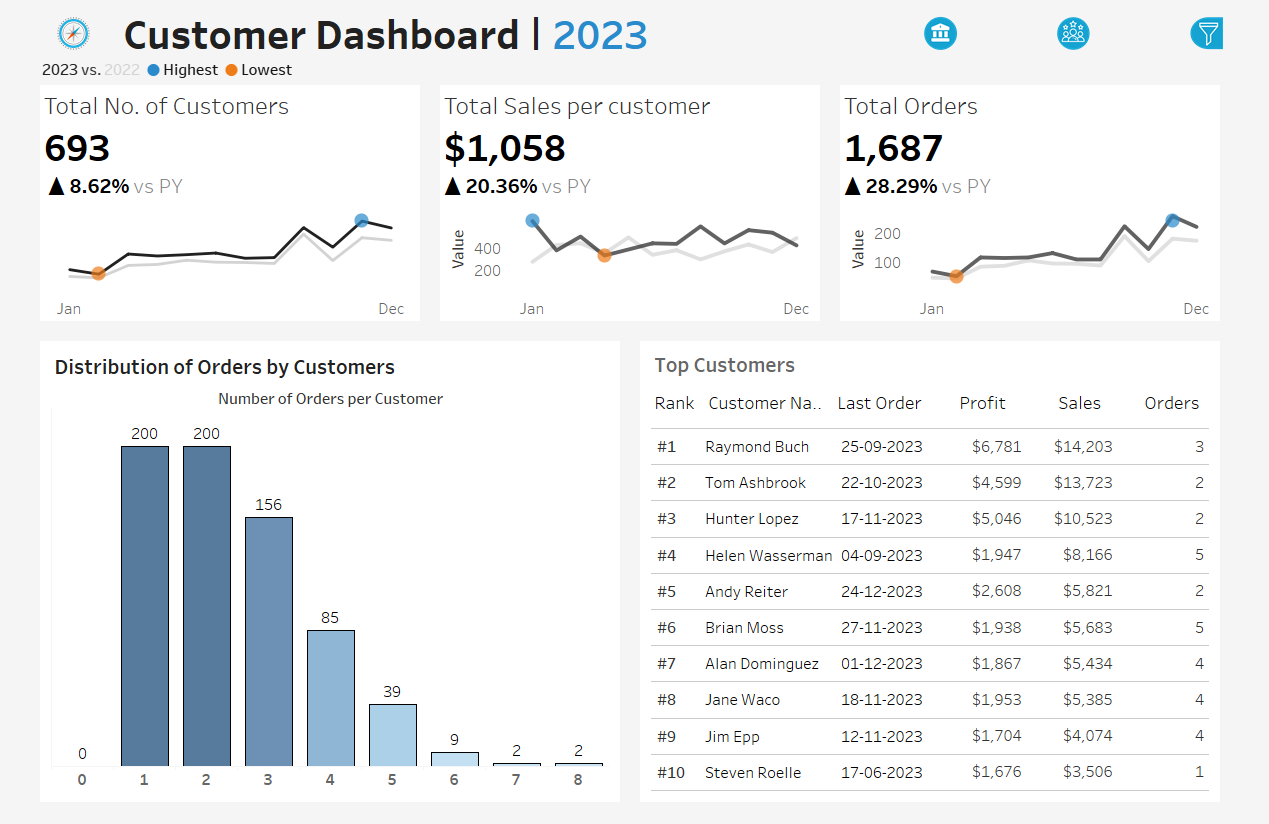

The dashboard page shown, as its layout file describes it:
{"tool":"tableau","page":{"name":"Customer Dashboard","canvas":[1200,800],"ordinal":0},"visuals":[{"type":"image","param":"C:/Users/Akash Paliwal/Downloads/Sales-Dashboard-Materials/Sales Dashboard Mater","box":[0,0,86,42]},{"type":"text","box":[86,0,660,42]},{"type":"dashboard-object","box":[843,0,134,42]},{"type":"dashboard-object","box":[977,0,133,42]},{"type":"worksheet","title":"Legend KPI","mark":"Automatic","box":[0,42,1200,31]},{"type":"parameter","param":"[Parameters].[Parameter 1]","box":[930,48,257,56]},{"type":"worksheet","title":"KPI Customers","mark":"Line","rows":["Calculation_286260097234006021"],"cols":["Order Date"],"box":[0,73,400,246]},{"type":"worksheet","title":"KPI Sales per customer","mark":"Line","rows":["Min/Max Customers (copy)_1113515053823201294"],"cols":["Order Date"],"box":[400,73,400,246]},{"type":"worksheet","title":"KPI Orders","mark":"Line","rows":["Min/Max Customers (copy)_1113515053820231693"],"cols":["Order Date"],"box":[800,73,400,246]},{"type":"text","box":[930,104,257,36]},{"type":"filter","title":"KPI Customers","param":"[federated.1g6lbct0ap08e71cuca1106mvlet].[none:Category:nk]","box":[930,140,257,61]},{"type":"filter","title":"KPI Customers","param":"[federated.1g6lbct0ap08e71cuca1106mvlet].[none:Sub-Category:nk]","box":[930,201,257,61]},{"type":"text","box":[930,262,257,36]},{"type":"filter","title":"KPI Customers","param":"[federated.1g6lbct0ap08e71cuca1106mvlet].[none:Region:nk]","box":[930,298,257,61]},{"type":"text","box":[17,336,566,36]},{"type":"text","box":[617,336,566,32]},{"type":"filter","title":"KPI Customers","param":"[federated.1g6lbct0ap08e71cuca1106mvlet].[none:State:nk]","box":[930,359,257,61]},{"type":"text","box":[617,368,54,44]},{"type":"text","box":[671,368,129,44]},{"type":"text","box":[800,368,122,44]},{"type":"text","box":[922,368,99,44]},{"type":"text","box":[1021,368,86,44]},{"type":"text","box":[1107,368,76,44]},{"type":"worksheet","title":"Order Distribution","mark":"Automatic","rows":["Calculation_286260097219256321"],"cols":["Calculation_224617077638569984"],"box":[17,372,566,411]},{"type":"worksheet","title":"Top Customers","mark":"Automatic","rows":["Calculation_224617077657341961","Customer Name","Order Date"],"box":[617,412,566,371]},{"type":"filter","title":"KPI Customers","param":"[federated.1g6lbct0ap08e71cuca1106mvlet].[none:City:nk]","box":[930,420,257,61]}]}

Visuals, with their boxes in screenshot pixels (x1, y1, x2, y2), scaled from the page's 1200x800 canvas onto the 1269x824 screenshot:
image: 0:0:91:43
text: 91:0:789:43
dashboard-object: 891:0:1033:43
dashboard-object: 1033:0:1174:43
"Legend KPI" worksheet: 0:43:1268:75
parameter: 983:49:1255:107
"KPI Customers" worksheet (Line marks): 0:75:423:329
"KPI Sales per customer" worksheet (Line marks): 423:75:846:329
"KPI Orders" worksheet (Line marks): 846:75:1268:329
text: 983:107:1255:144
"KPI Customers" filter: 983:144:1255:207
"KPI Customers" filter: 983:207:1255:270
text: 983:270:1255:307
"KPI Customers" filter: 983:307:1255:370
text: 18:346:617:383
text: 652:346:1251:379
"KPI Customers" filter: 983:370:1255:433
text: 652:379:710:424
text: 710:379:846:424
text: 846:379:975:424
text: 975:379:1080:424
text: 1080:379:1171:424
text: 1171:379:1251:424
"Order Distribution" worksheet: 18:383:617:806
"Top Customers" worksheet: 652:424:1251:806
"KPI Customers" filter: 983:433:1255:495
